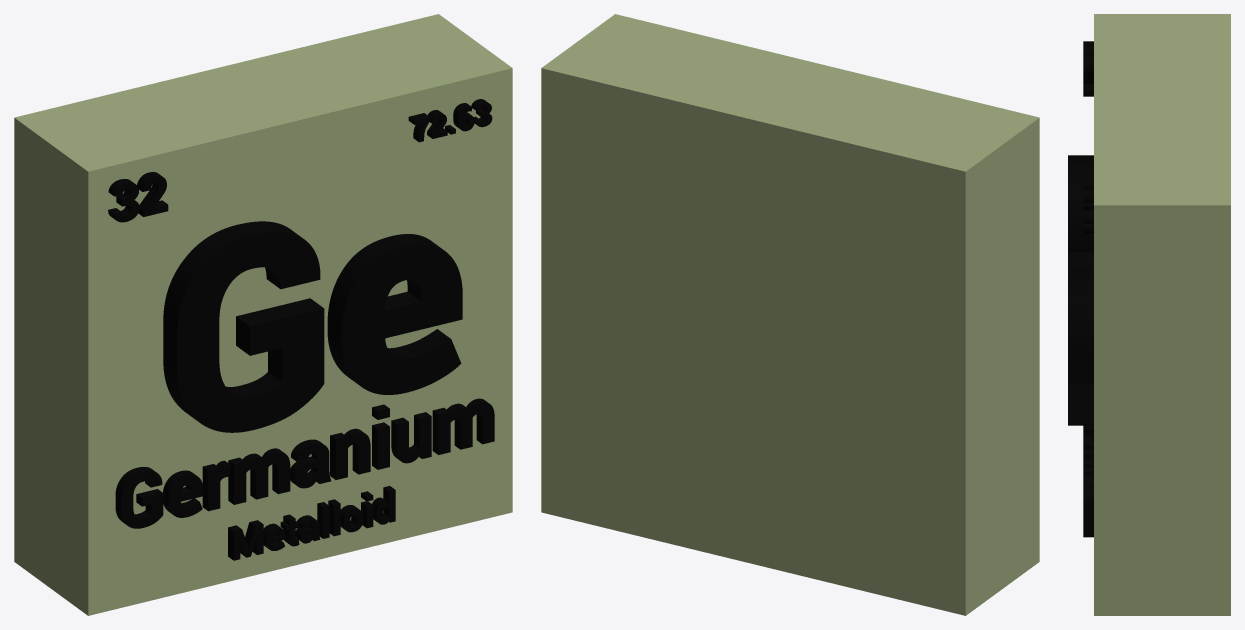
3 renders of one model, left to right at view 1: azimuth 30°, elevation 25°; view 2: azimuth 150°, elevation 25°; view 3: azimuth 270°, elevation 25°, orthographic. The views are drawn at different scales.
Parts seen in each view (by area): view 1: Cube, Text, Text.001, Text.002, Text.003, Text.004; view 2: Cube; view 3: Cube, Text, Text.001, Text.003, Text.004.
Part boxes in pixels (<box>): Cube: <box>14,14,512,615</box>; Text: <box>163,221,462,432</box>; Text.001: <box>115,398,494,528</box>; Text.002: <box>228,486,395,560</box>; Text.003: <box>108,172,168,222</box>; Text.004: <box>408,99,492,142</box>; Cube: <box>541,14,1039,615</box>; Cube: <box>1094,14,1230,615</box>; Text: <box>1068,155,1093,425</box>; Text.001: <box>1083,425,1093,530</box>; Text.003: <box>1083,41,1093,96</box>; Text.004: <box>1083,180,1093,233</box>.
Size of the model in its own units: 178 by 178 by 63.95.
